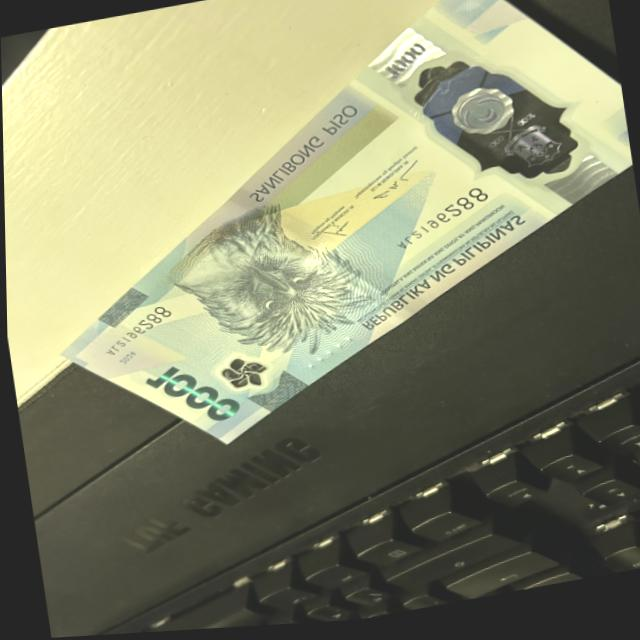clear_window: (412, 45, 578, 215)
eagle: (178, 208, 362, 367)
sampaguita: (214, 355, 271, 395)
